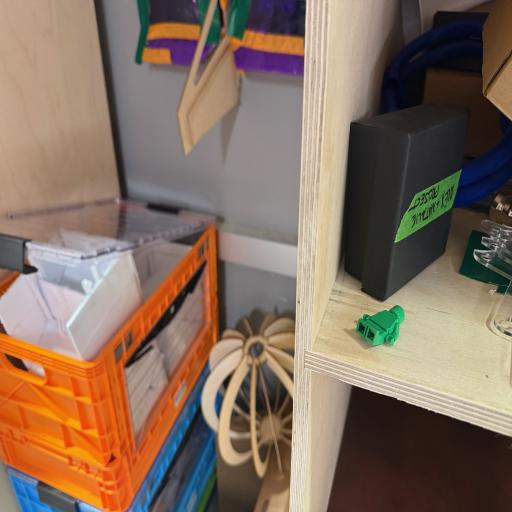Lego-Dude: (356, 305, 405, 346)
